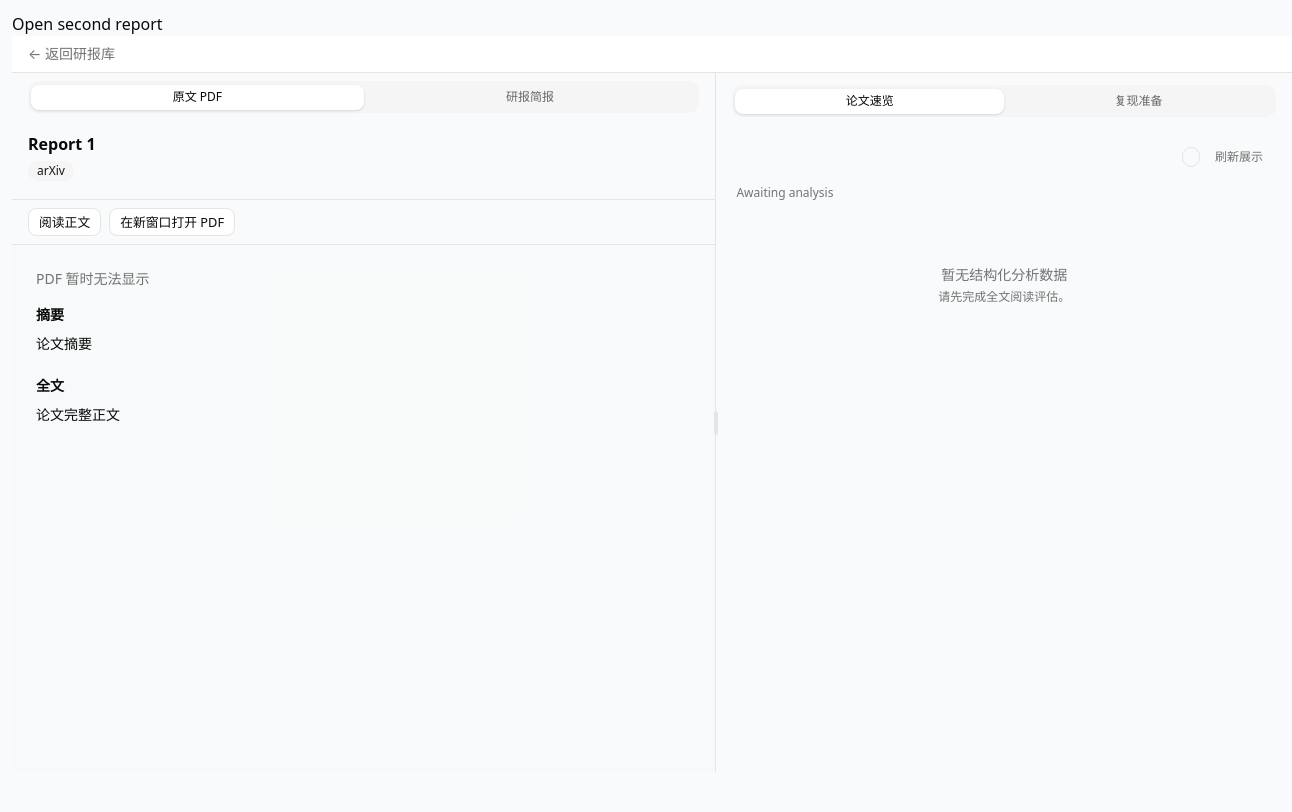
Test: an unavailable newly selected report clears the previous report
Expected: the heading "Report 1" is shown, 28,133 -> 96,155
Step 1. Click the link "Open second report" → {"x": 87, "y": 24}, box 12,13 -> 163,35
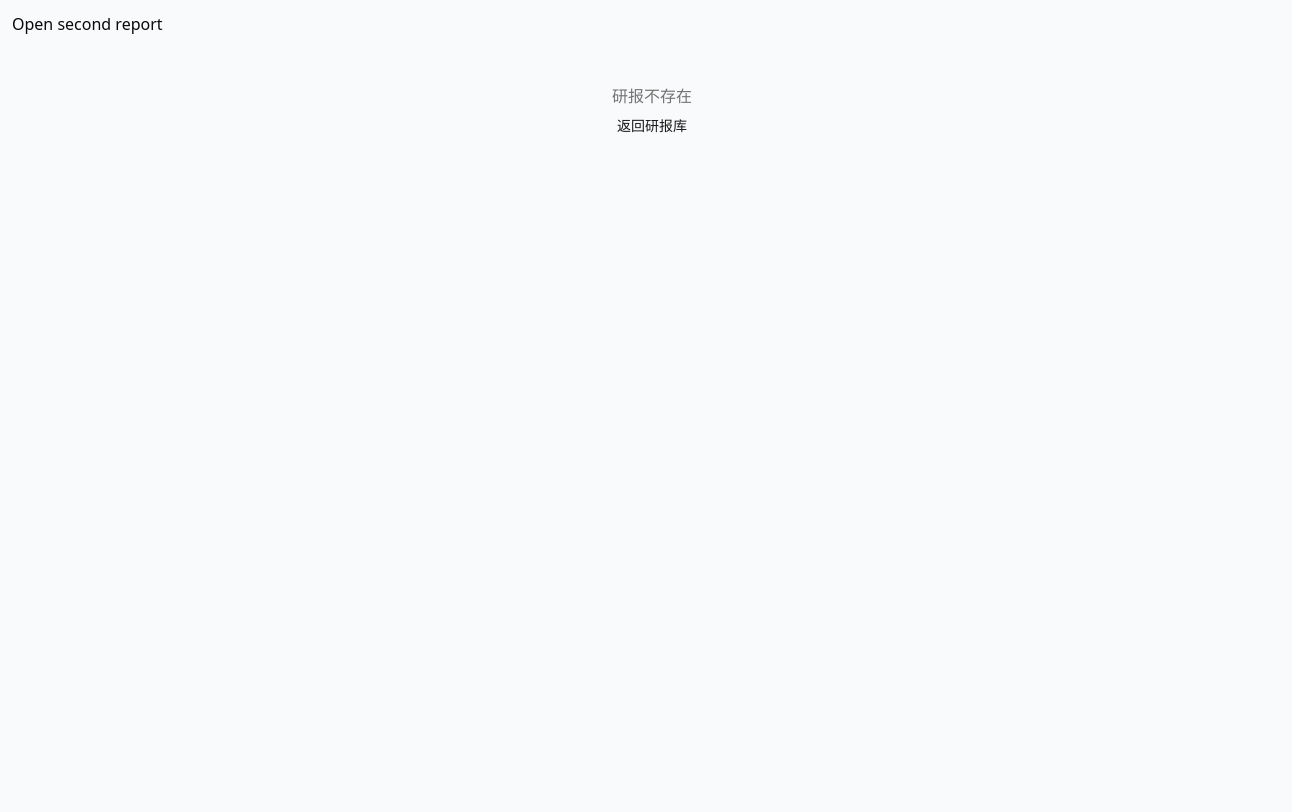
Now the text "研报不存在" is shown, box 612,85 -> 692,107
Now the heading "Report 1" is gone
